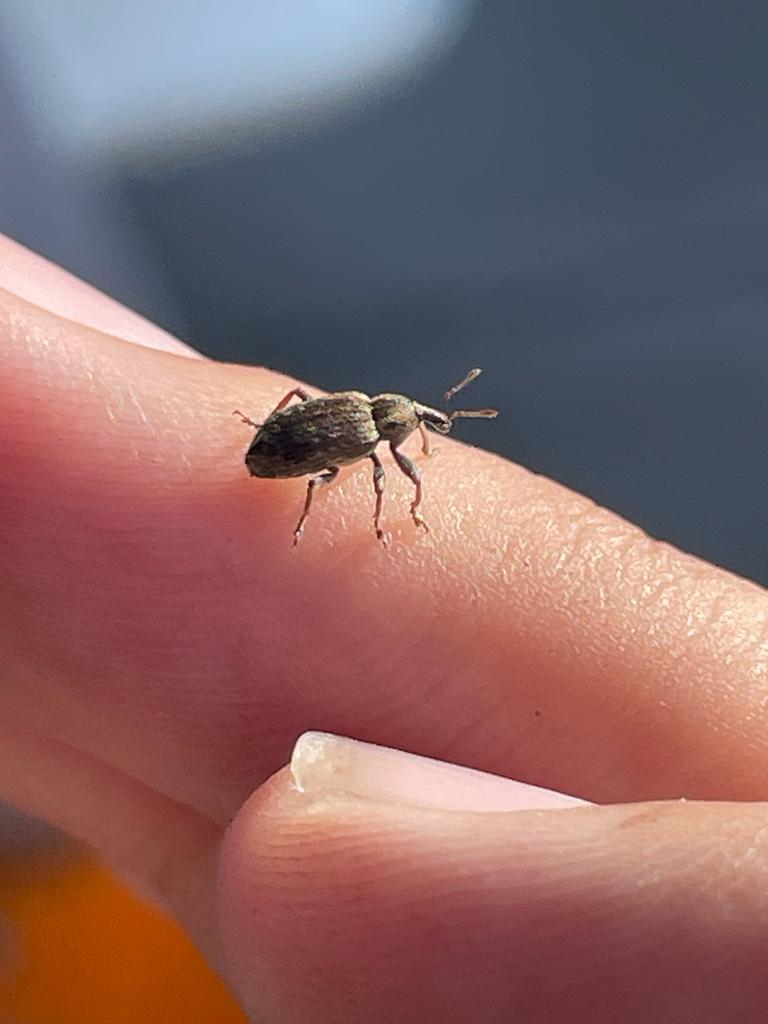weevils: (197, 324, 536, 577)
